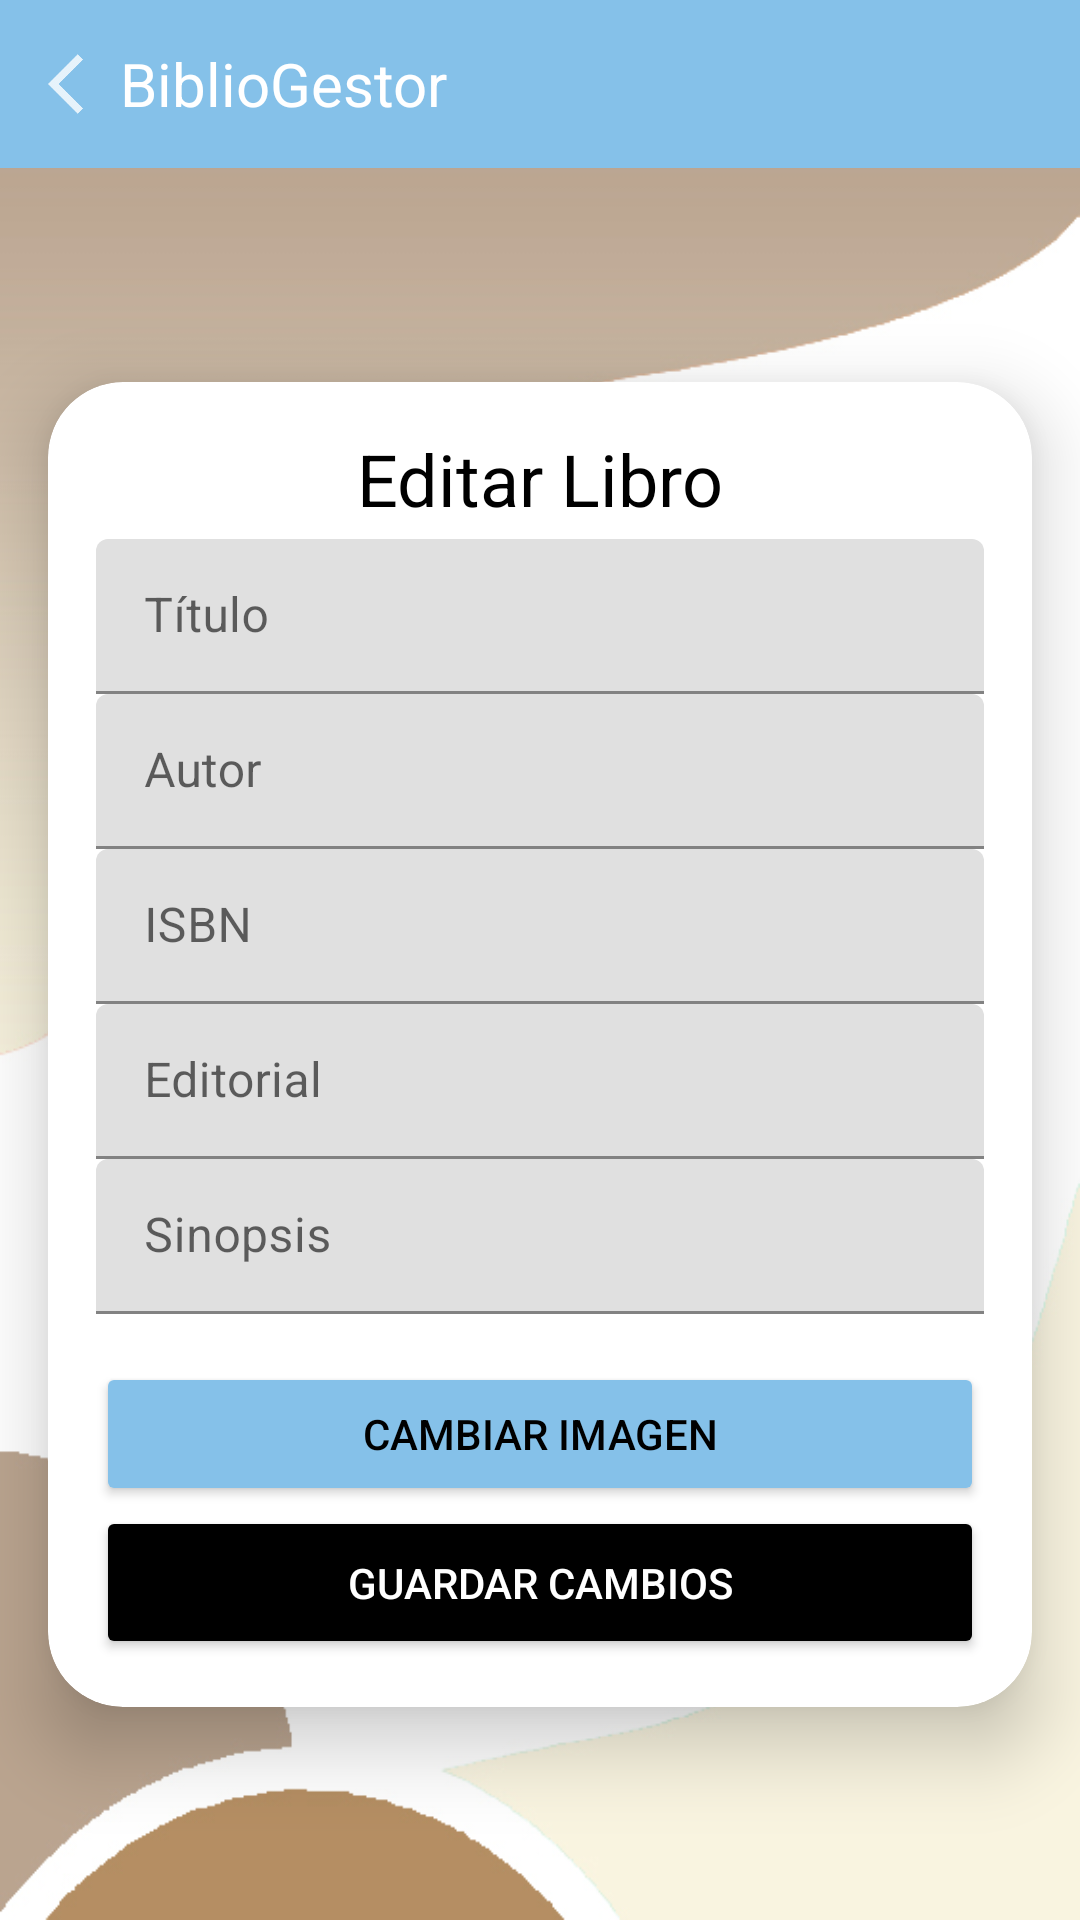

Screen size 1080×1920. Icon name, then its center in pixels as (x=x, y=y):
arrow back: (x=65, y=84)
